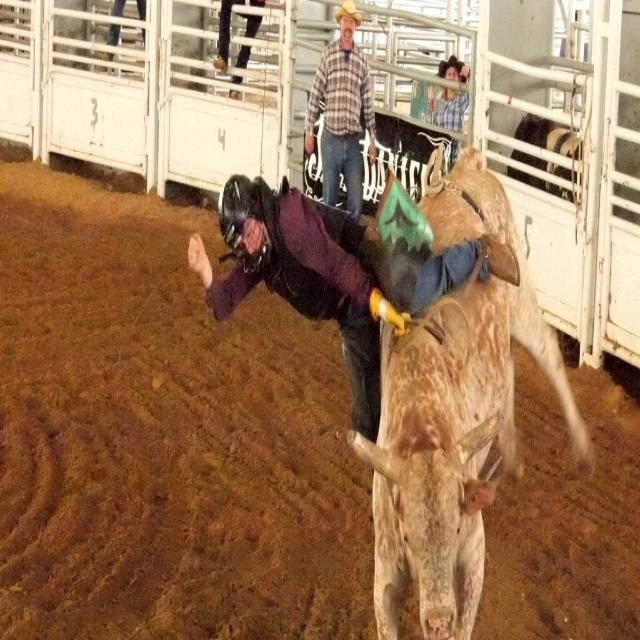Cattle: (346, 147, 597, 640)
